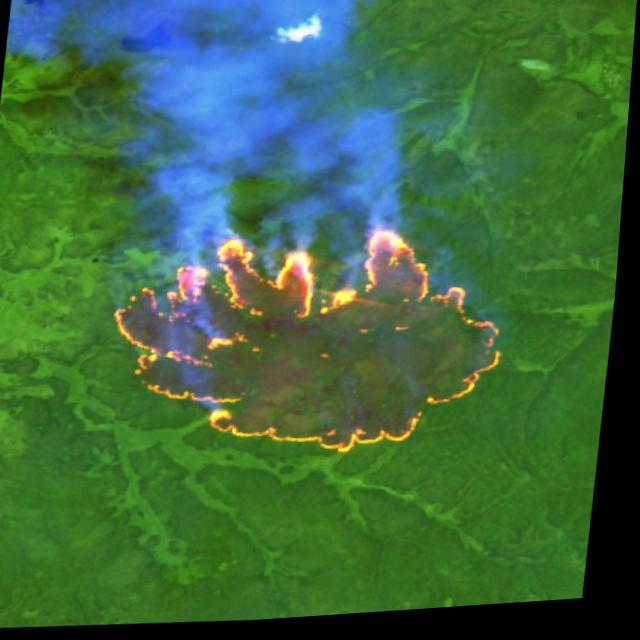fire: (98, 212, 524, 480)
